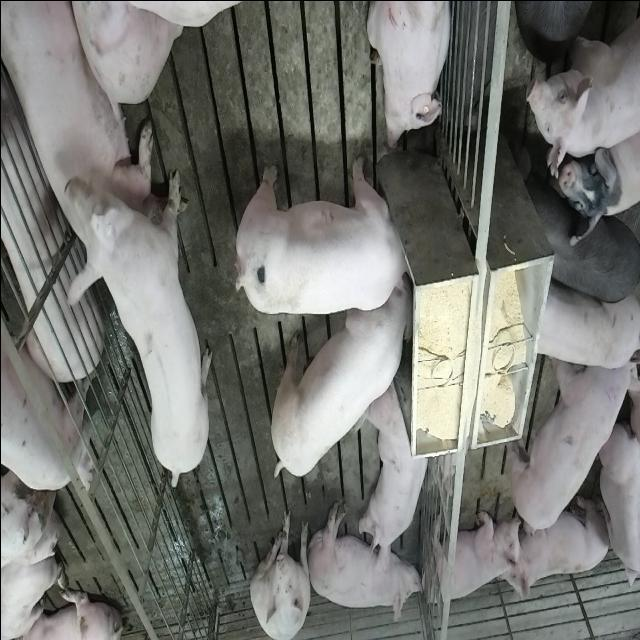Feeding: (231, 148, 410, 320), (270, 278, 416, 485)
Lateral_lying: (307, 493, 424, 628)
Sitting: (248, 509, 312, 640)
Standing: (62, 159, 212, 486), (506, 346, 638, 544), (0, 288, 96, 500), (520, 153, 640, 310), (524, 26, 640, 180), (517, 284, 640, 370), (557, 130, 640, 252), (596, 424, 640, 589)
Sternal_lying: (0, 0, 156, 267), (350, 382, 430, 576), (366, 0, 454, 151), (500, 488, 610, 604), (424, 506, 520, 604)
